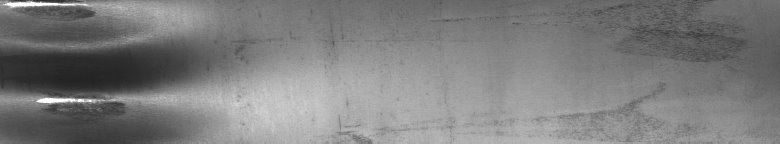ke: (4, 4, 162, 116)
